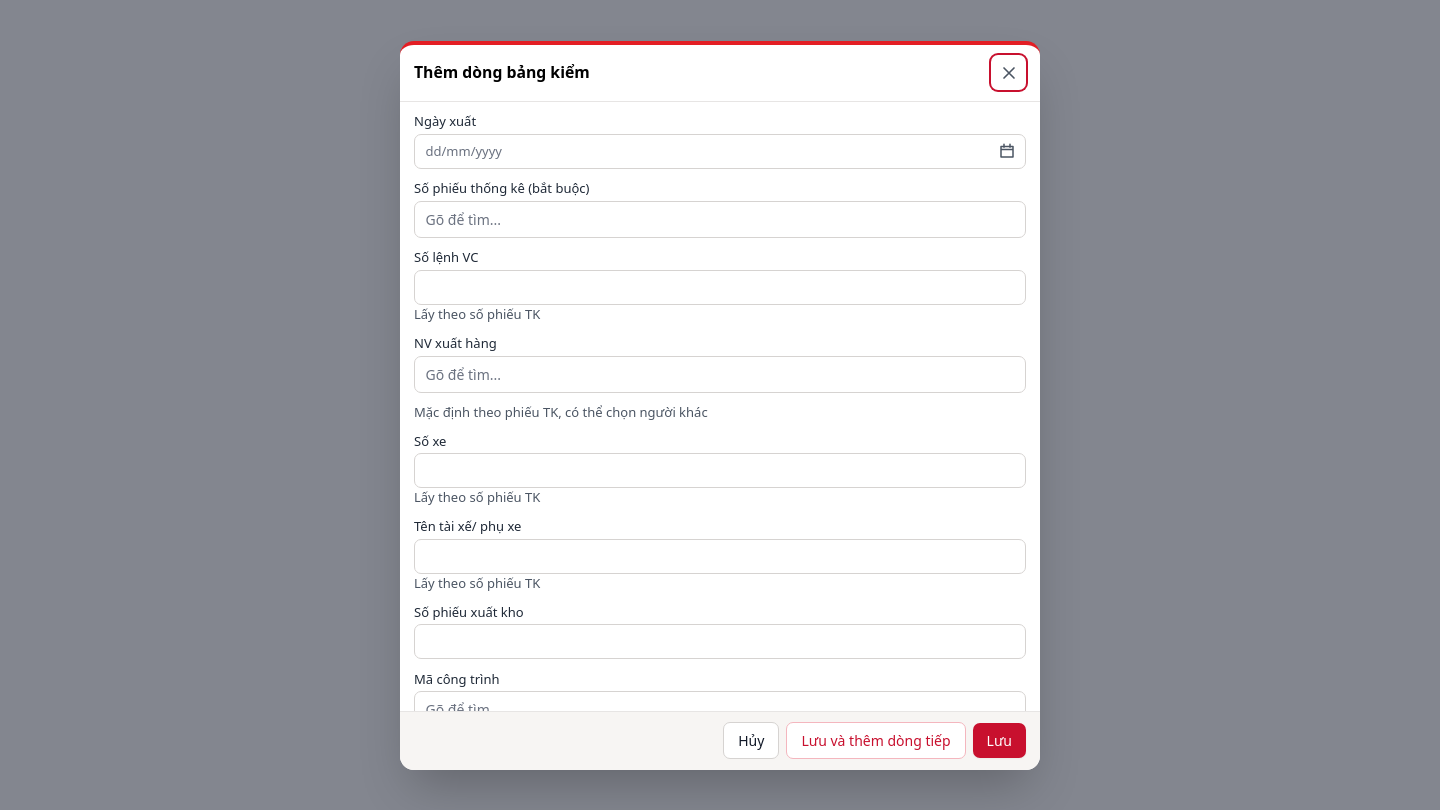
Test case: InspectionFormModal - NV xuất hàng › chọn số TK → điền sẵn người theo phiếu và ô vẫn sửa được
Type "TK-1" into the dropdown with test id "tk".
click(720, 219); type("TK-1")  # box [414,201,1026,238]
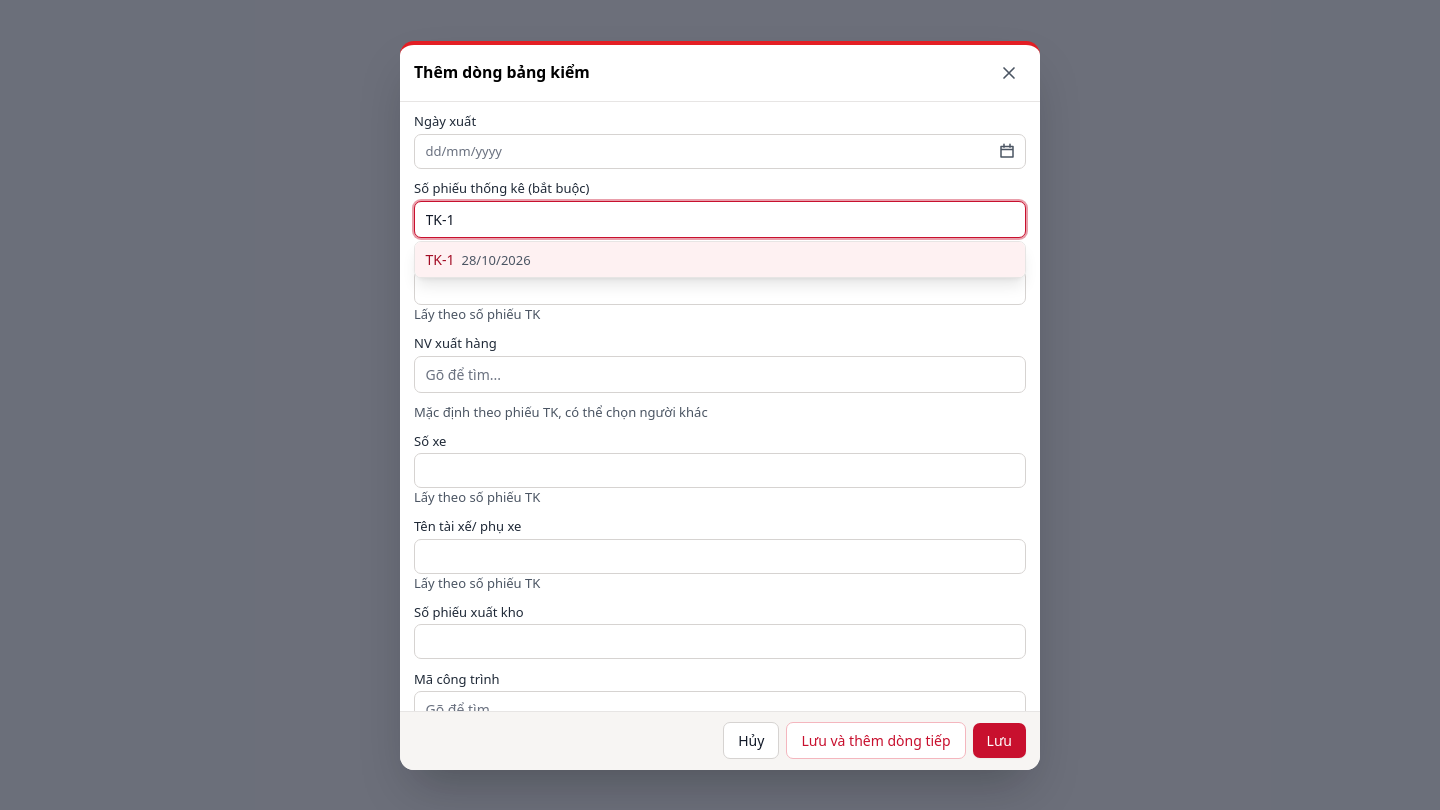
Click the option "TK-128/10/2026".
click(496, 260)  # box [415,242,1025,277]
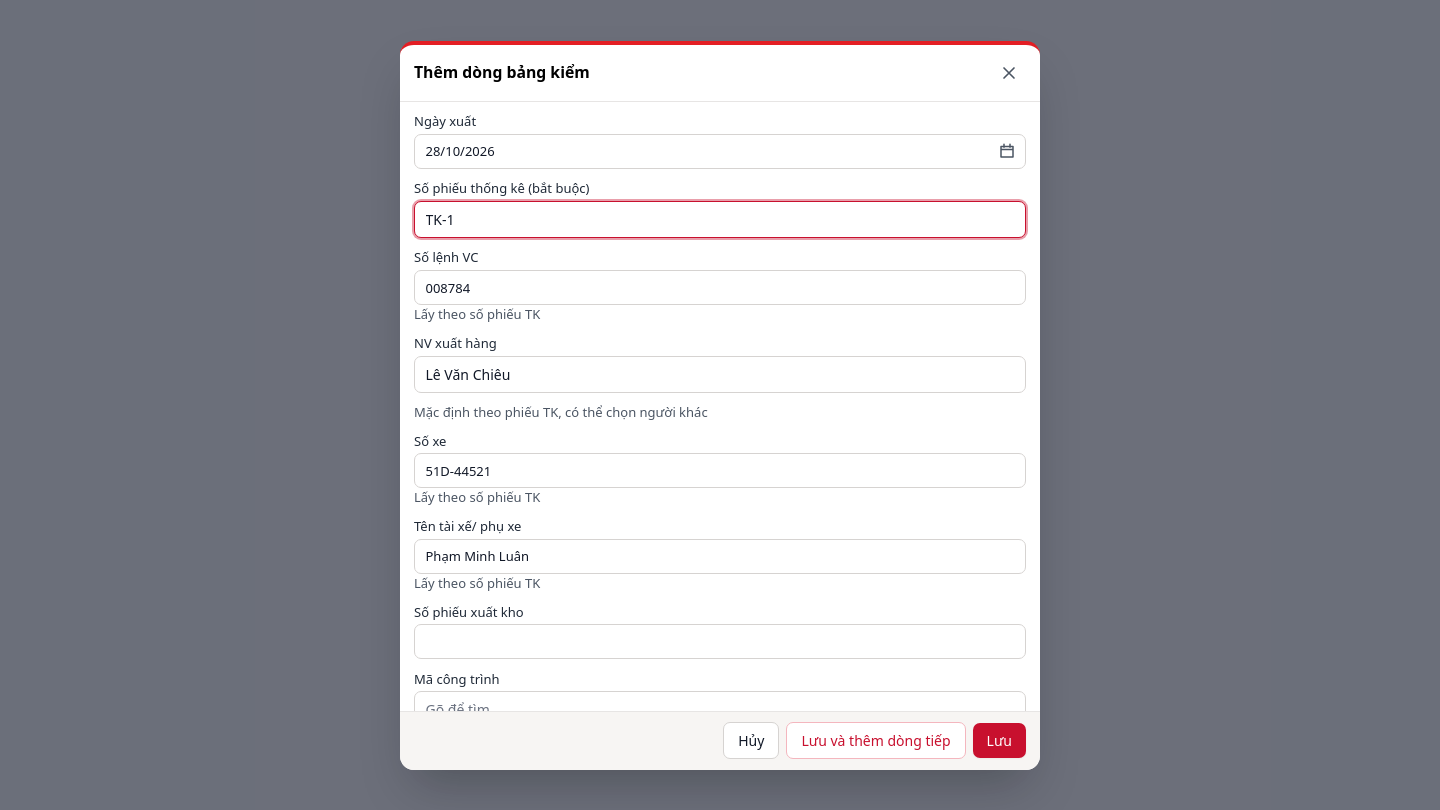
Expected: the dropdown with test id "shipper" holds "Lê Văn Chiêu"
Replace the text in the dropdown with test id "shipper" with "binh" at (720, 374), box [414,356,1026,392]
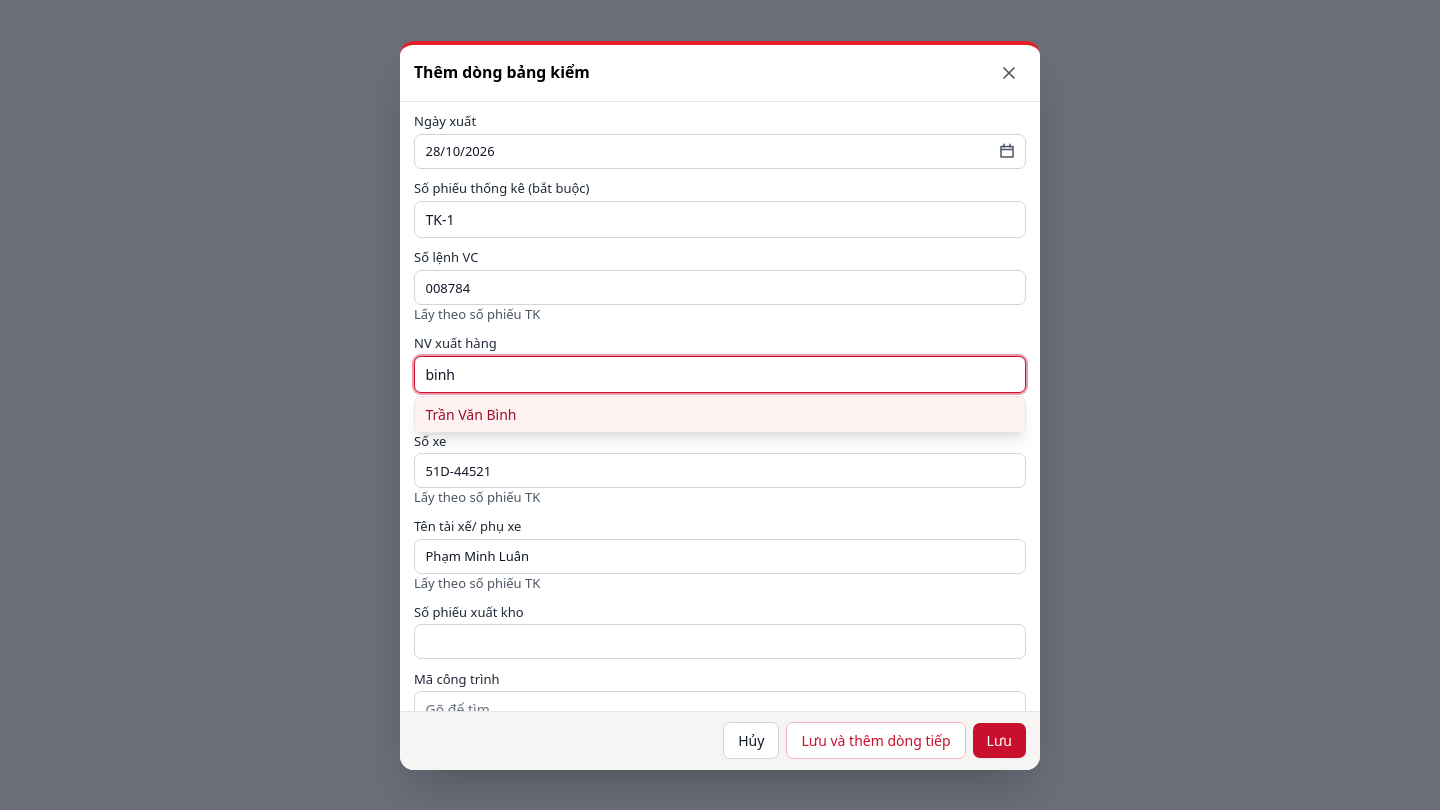
Click the option "Trần Văn Bình".
click(471, 415)  # box [415,397,1025,432]
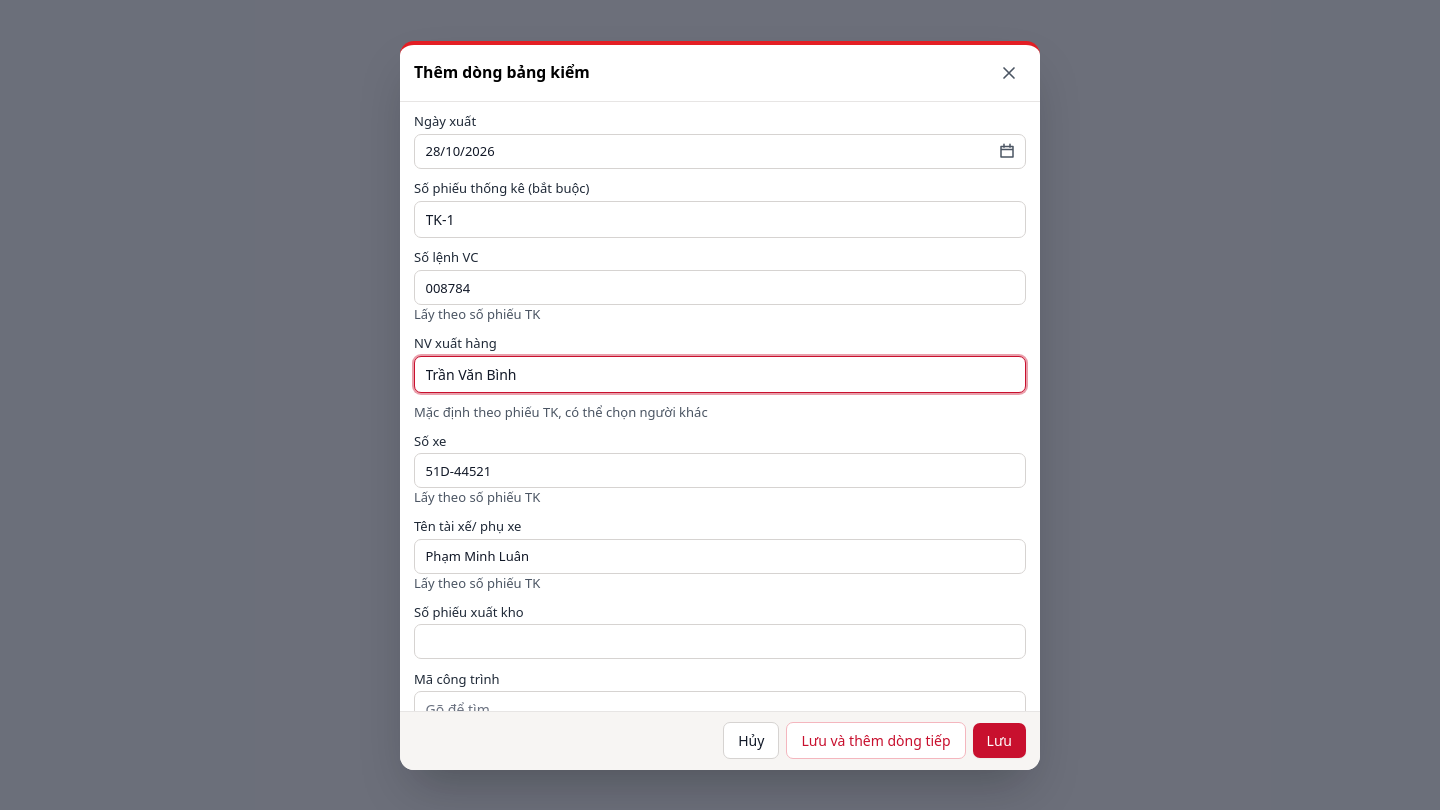
Expected: the dropdown with test id "shipper" holds "Trần Văn Bình", [414,356,1026,392]
